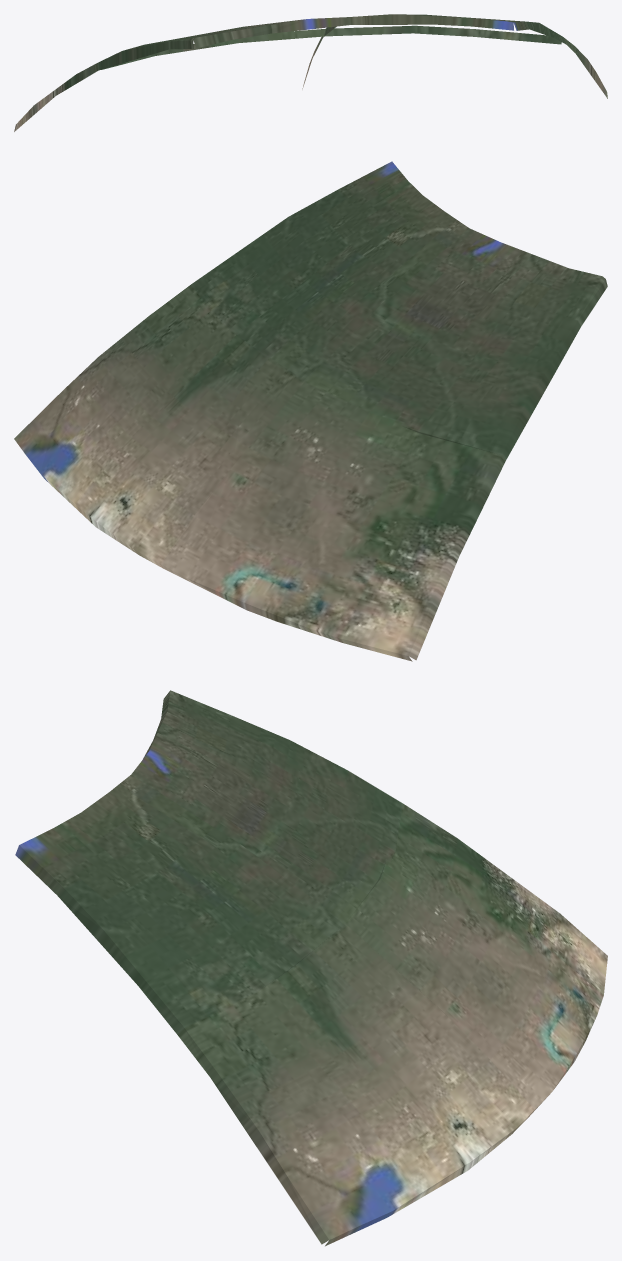
3 renders of one model, top to bottom at view 1: azimuth 30°, elevation 25°; view 2: azimuth 150°, elevation 25°; view 3: azimuth 270°, elevation 25°, orthographic. The views are drawn at different scales.
Size of the model in its own units: 3230421 by 1445553 by 2826841.
Materials: 1 (1 with a texture image).
